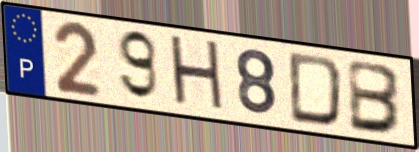2: (51, 18, 104, 101)
8: (233, 47, 280, 117)
9: (114, 28, 162, 105)
B: (347, 57, 405, 137)
D: (286, 50, 347, 130)
H: (166, 32, 228, 117)
